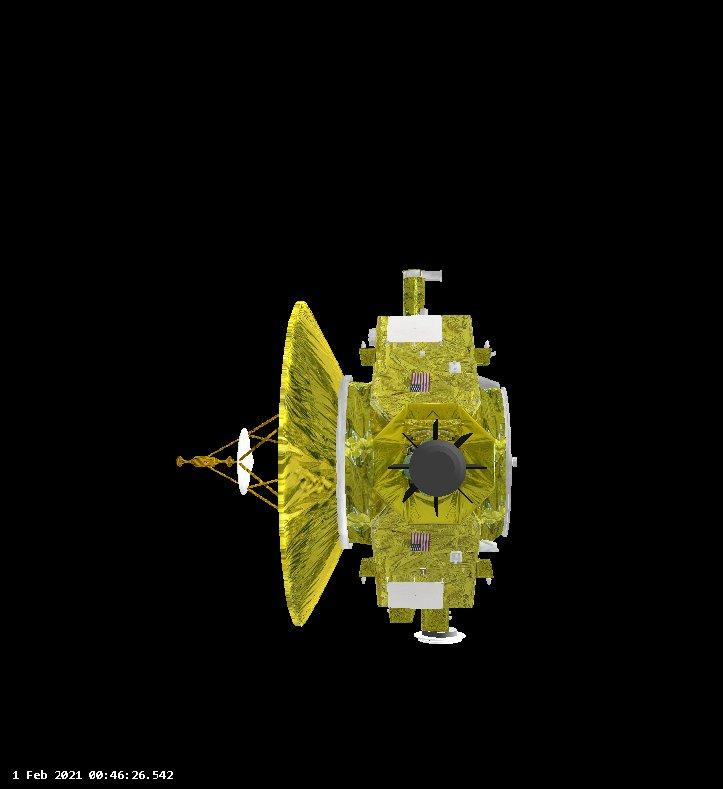antenna: (170, 293, 356, 638), (495, 382, 524, 544), (228, 422, 262, 499), (412, 623, 469, 652)
body: (362, 303, 523, 623)
